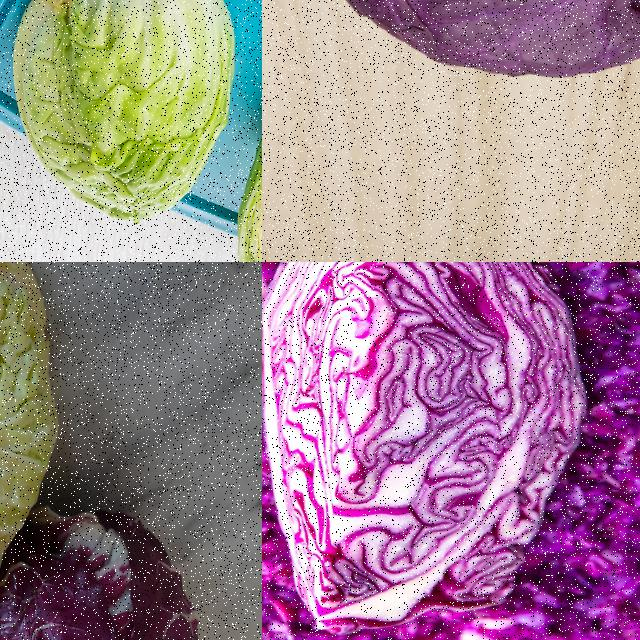cabbage: (262, 262, 586, 626), (12, 0, 240, 231), (0, 496, 209, 639), (284, 0, 639, 79), (0, 262, 63, 628)
